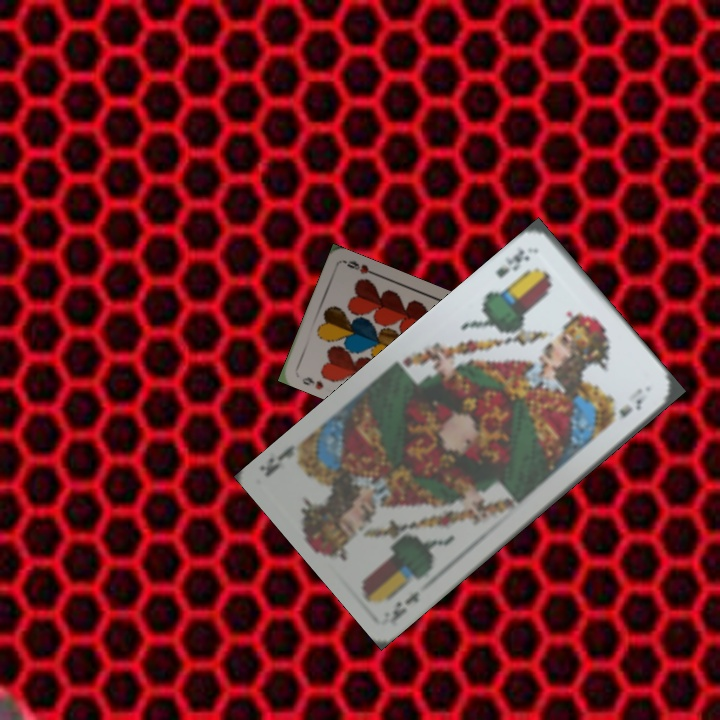EK: (491, 244, 532, 281), (387, 587, 423, 626)
H9: (298, 373, 326, 392)
